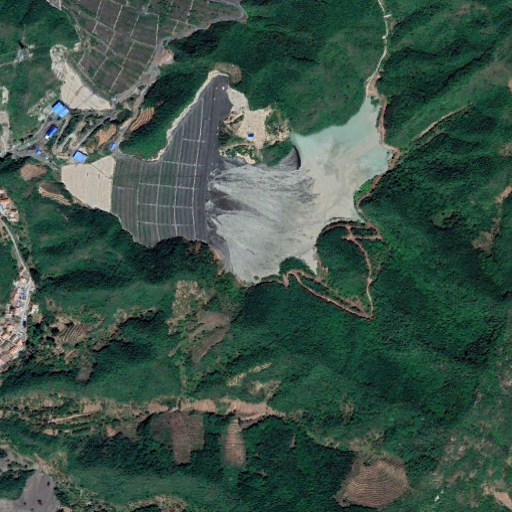tp: (60, 74, 391, 283)
